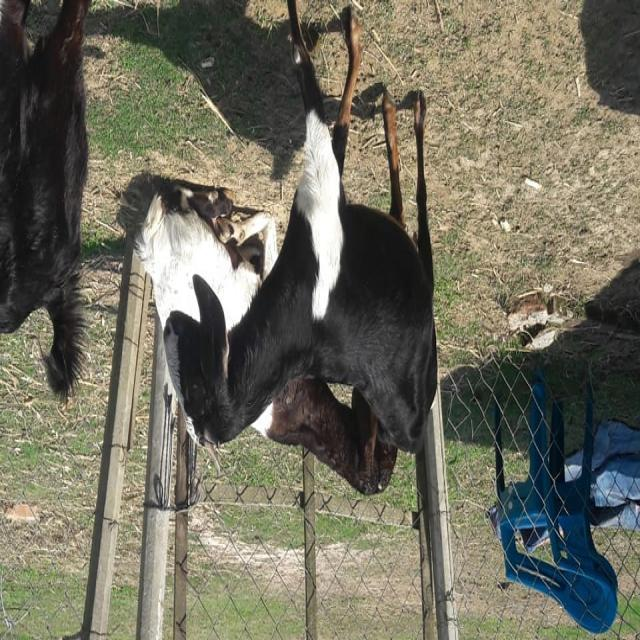Goat: (162, 2, 438, 459), (134, 182, 398, 499), (0, 3, 91, 407)
